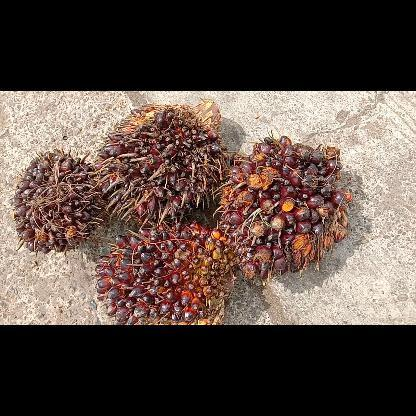Kurang masak: (218, 132, 356, 282), (96, 96, 230, 224), (94, 220, 242, 324), (10, 147, 110, 255)
